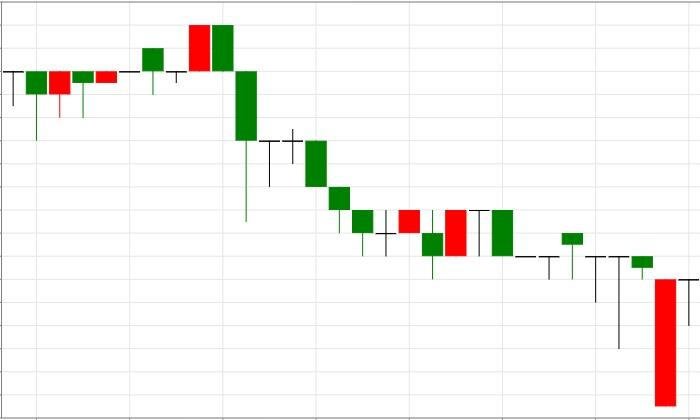morning_star_rise: (189, 25, 421, 256)
